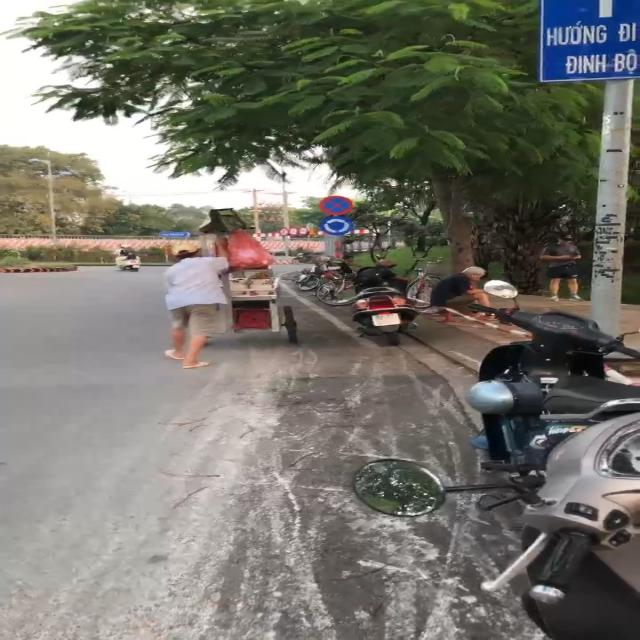Bien bao cam dung xe va do xe: (316, 192, 359, 217)
Bien bao noi giao nhau chay theo vong xuyen: (316, 215, 356, 238)
